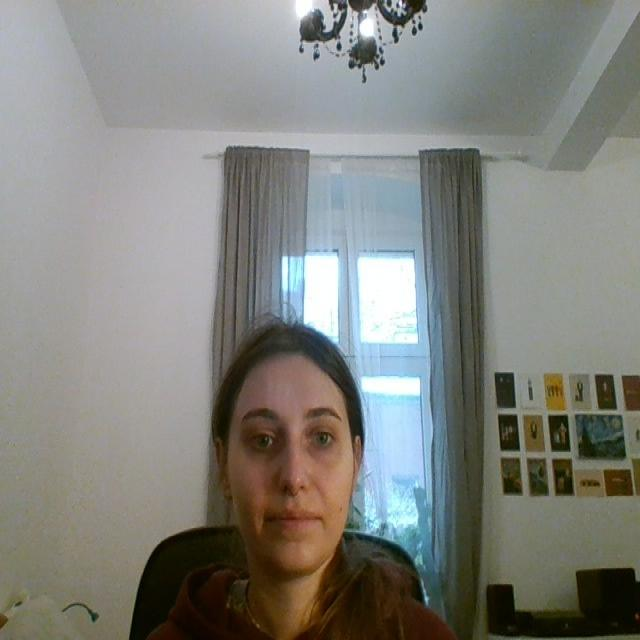eye: (245, 426, 284, 453), (306, 425, 340, 452)
gaze: (316, 431, 328, 444), (258, 434, 270, 446)
